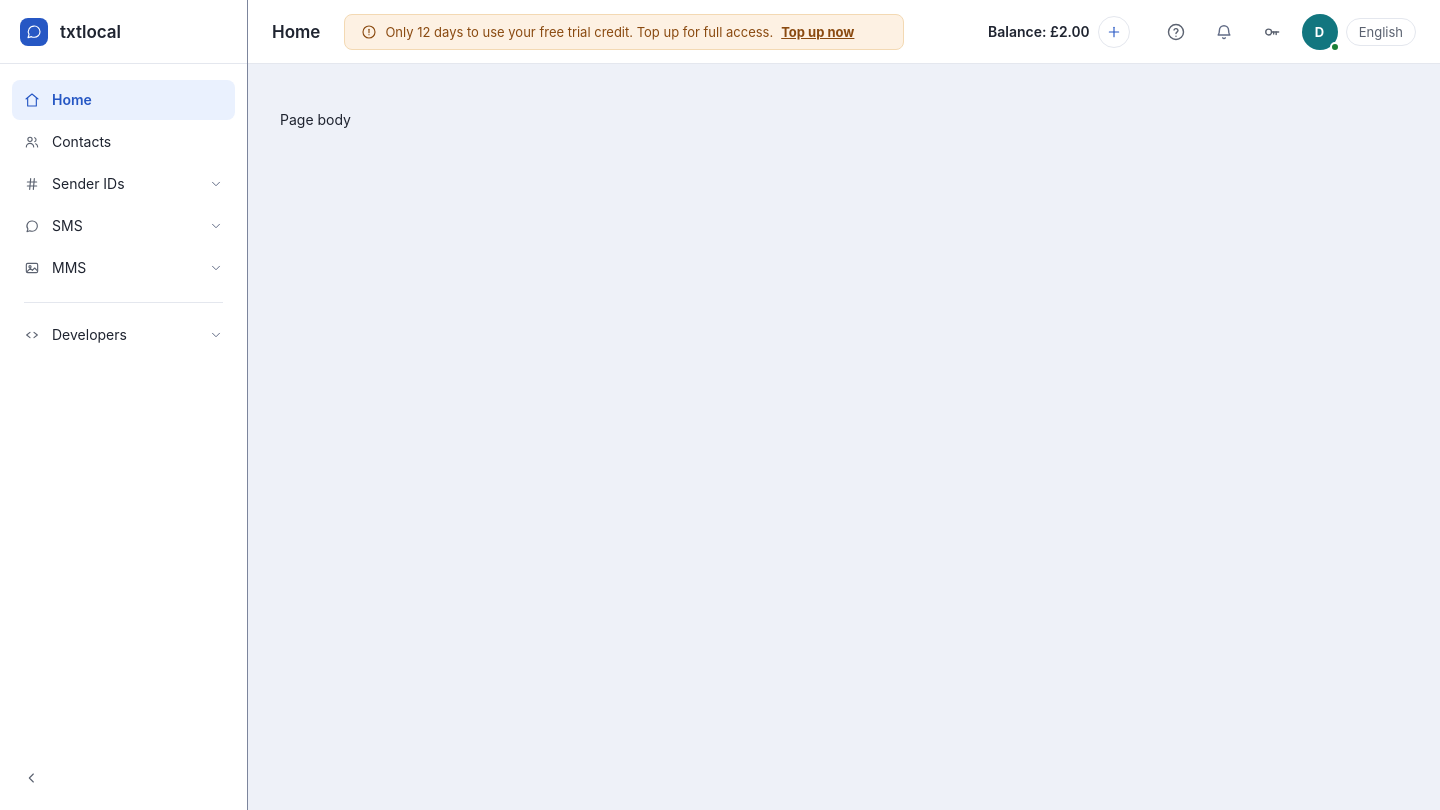
Scenario: Sidebar › keeps a sidebar group the user opened open across navigation
Expected: the text "Page body" is shown, [280,111,351,128]
Click the heading "Developers": point(124, 334) [24,326,223,343]
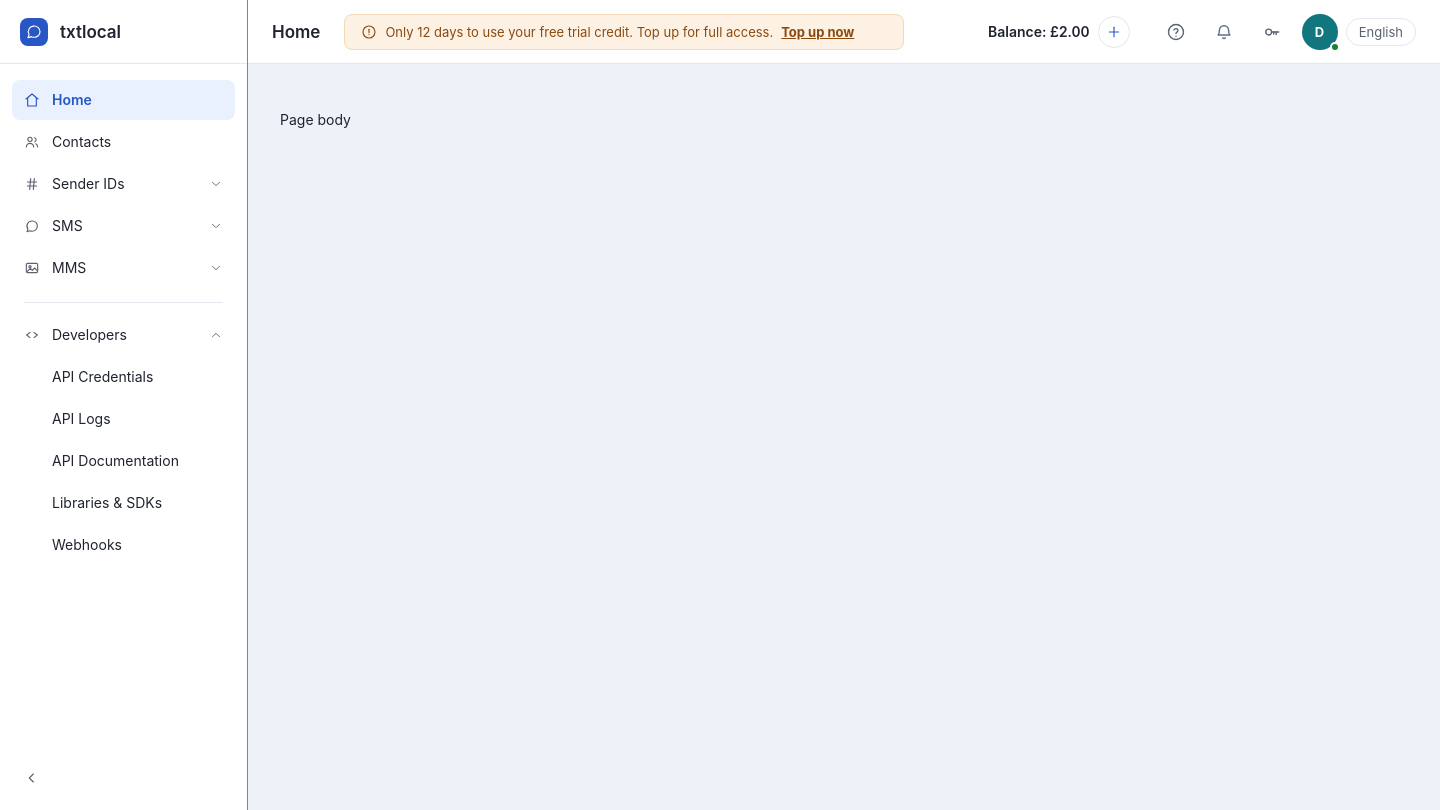
Click the link "API Logs": point(81, 418) [52,410,111,427]
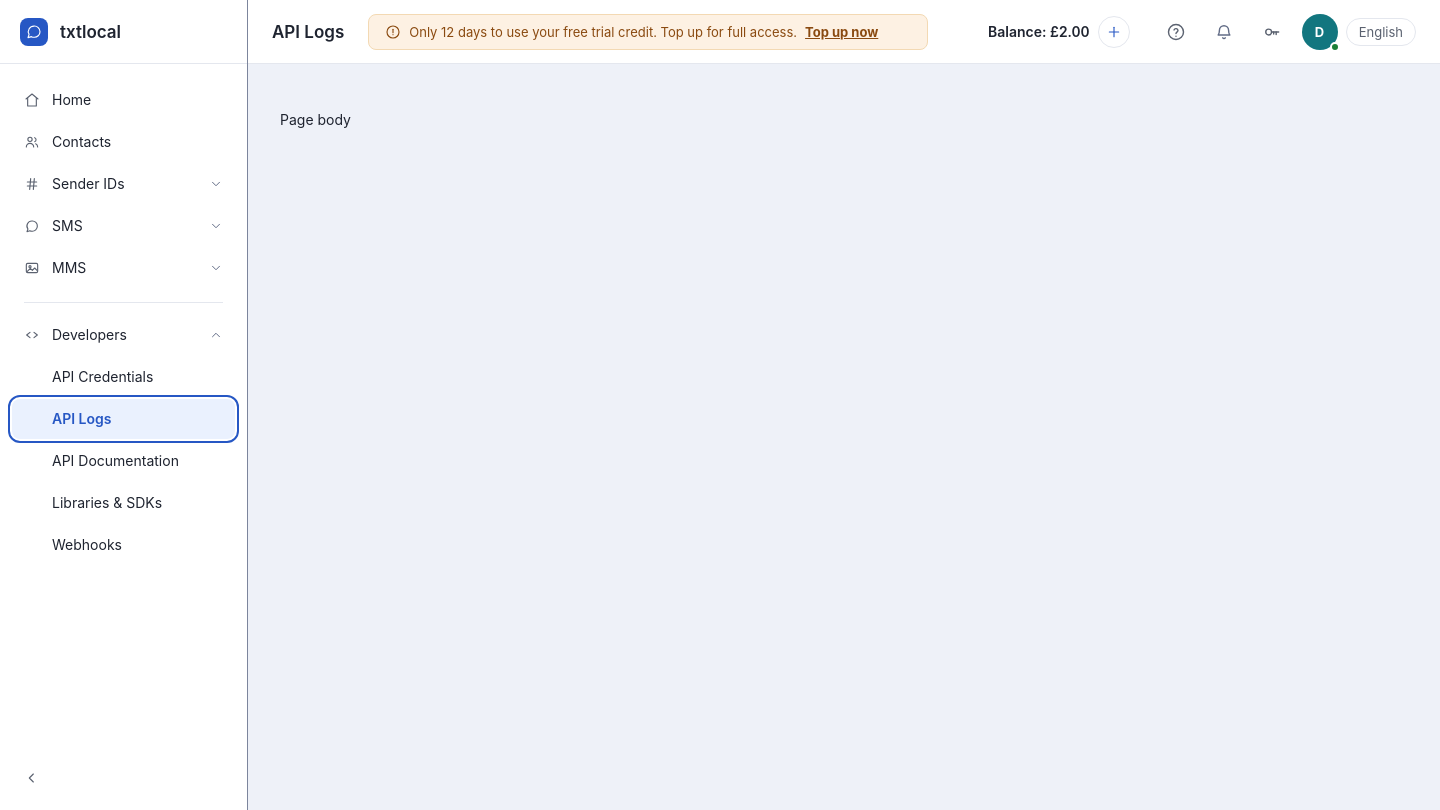
Expected: the link "Webhooks" is shown, [52,536,122,553]
Expected: the heading "API Logs" is shown, [272,20,344,44]
